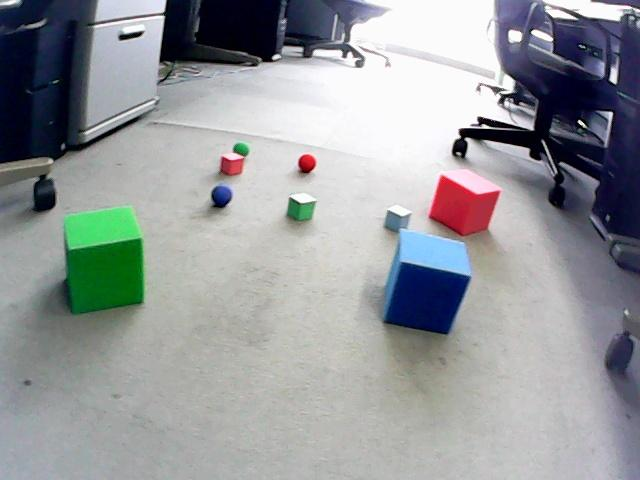blue_block: (384, 229, 471, 333), (385, 205, 411, 231)
red_block: (429, 169, 500, 235), (220, 153, 244, 174)
